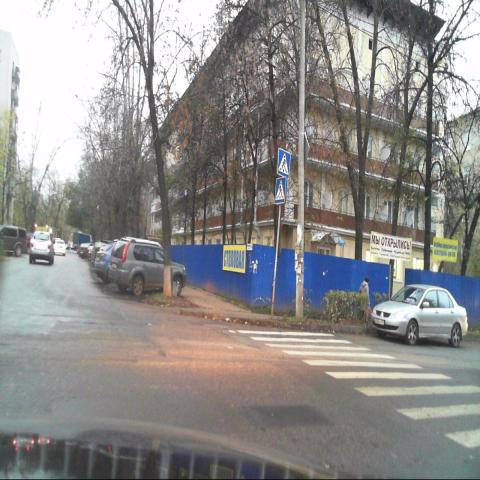5_19_1: (277, 148, 290, 179), (275, 176, 285, 205)
